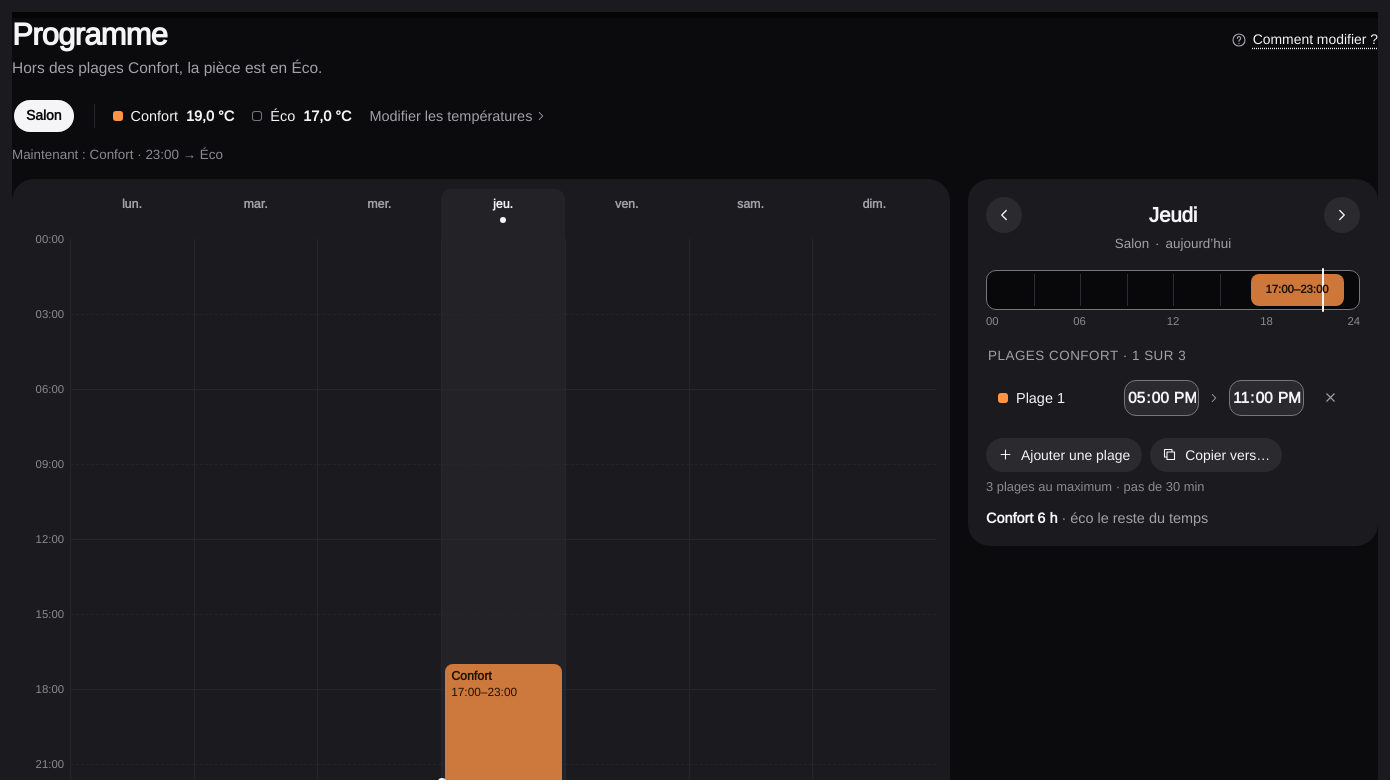
Test: /schedule: what the page says › the temperatures with swatches and a link to the room, « Maintenant », one line of help and « Comment modifier ? »
Expected: the button with aria-label "Jeudi," is shown, [441, 189, 565, 239]
Expected: the element with class "temps" reads "Confort 19,0 °C Éco 17,0 °C Modifier les températures", [113, 94, 548, 138]
Click the button named "Comment modifier ?" at (1304, 40), box [1231, 18, 1378, 62]
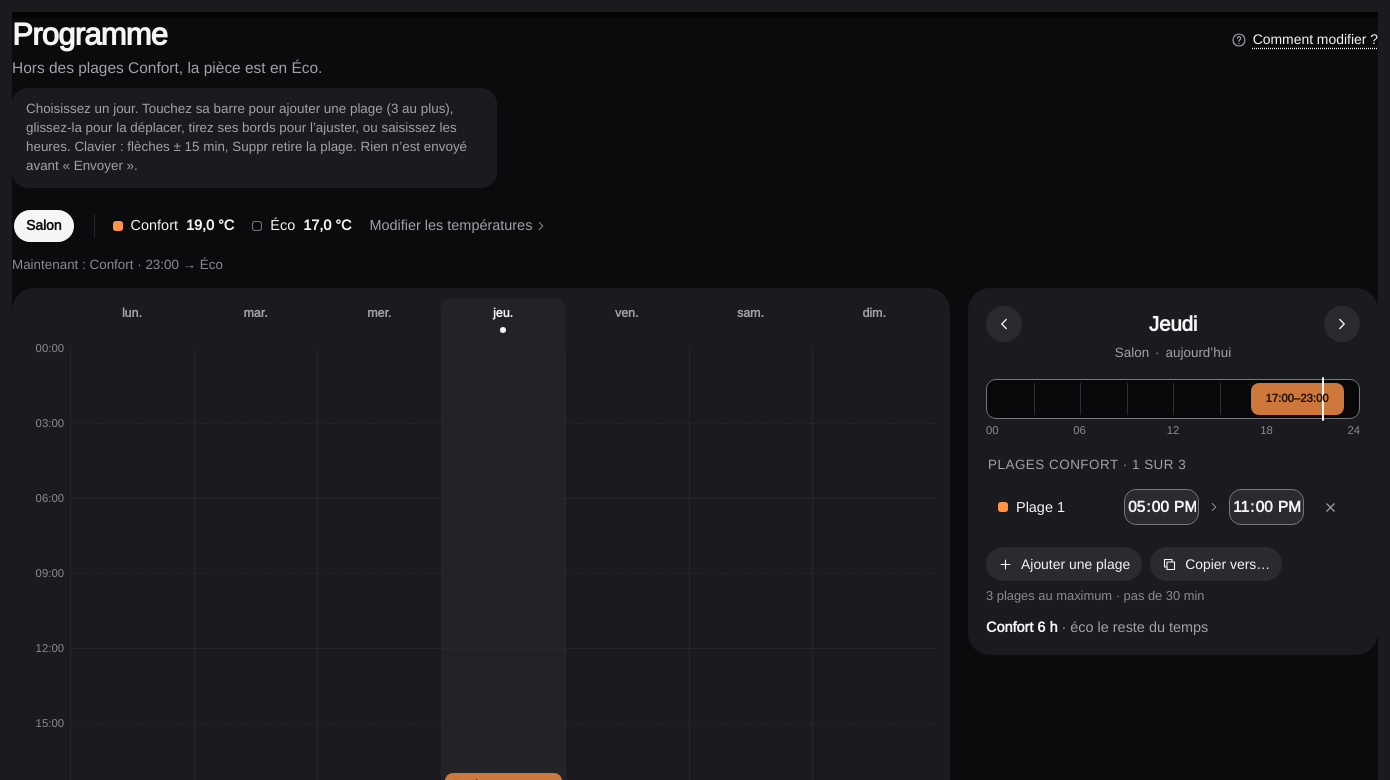
Expected: the heading "Jeudi" is shown, [1149, 311, 1197, 337]
Result: the text "glissez-la pour la déplacer" is shown at [26, 100, 467, 174]
